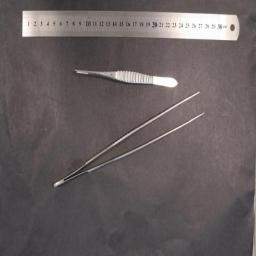DeBakey Dissector: (54, 91, 206, 187)
Gillies Toothed Dissector: (74, 69, 178, 89)
